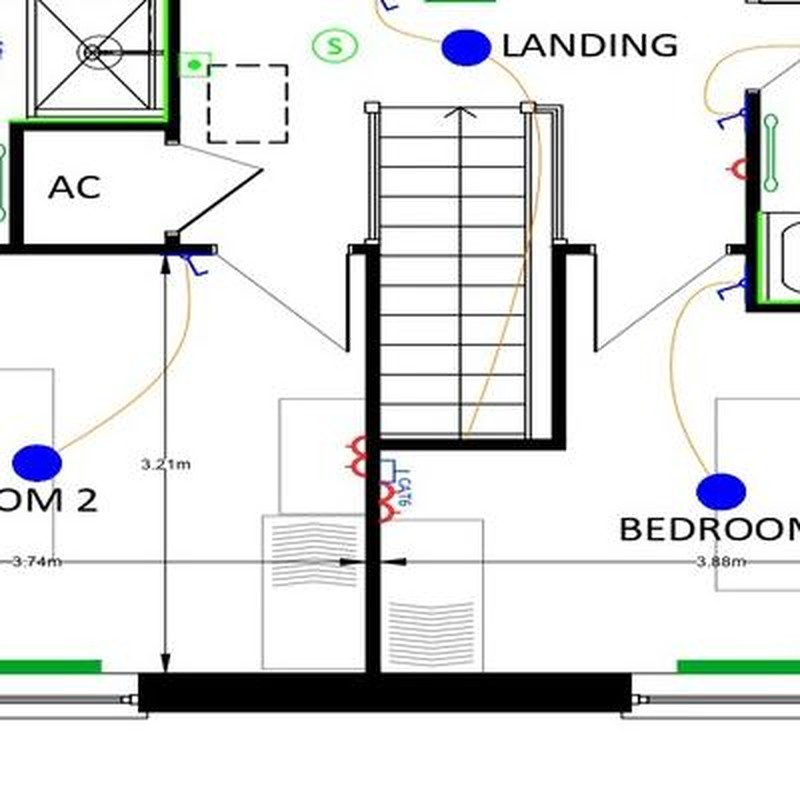Cat 6 Data Socket: (379, 459, 412, 507)
Double Socket: (379, 483, 403, 524), (344, 435, 366, 479)
Full Height Tiling: (10, 1, 169, 119), (758, 213, 800, 304)
Light Switch: (718, 278, 746, 302), (180, 255, 209, 277), (717, 107, 745, 129)
Low Energy Pendant Light: (442, 30, 493, 67), (13, 445, 62, 482), (699, 474, 746, 512)
Mains Wired Smoke Detector: (313, 28, 358, 63)
Programmable Room Thermostat: (180, 51, 211, 78)
Radiator: (677, 660, 800, 674), (1, 661, 100, 675)
Single Socket: (726, 158, 745, 181)
